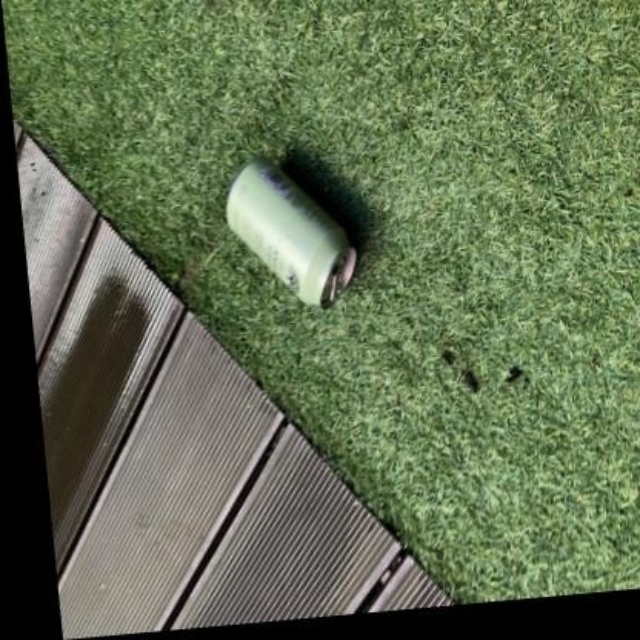trash: (226, 160, 355, 305)
